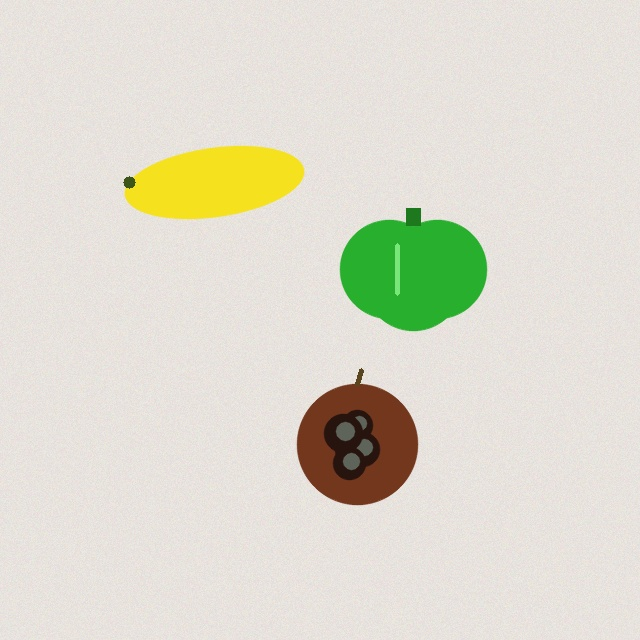Fresh banana: (120, 140, 308, 224)
Fresh bell pepper: (340, 208, 486, 330)
Rotten apple: (297, 370, 417, 504)
